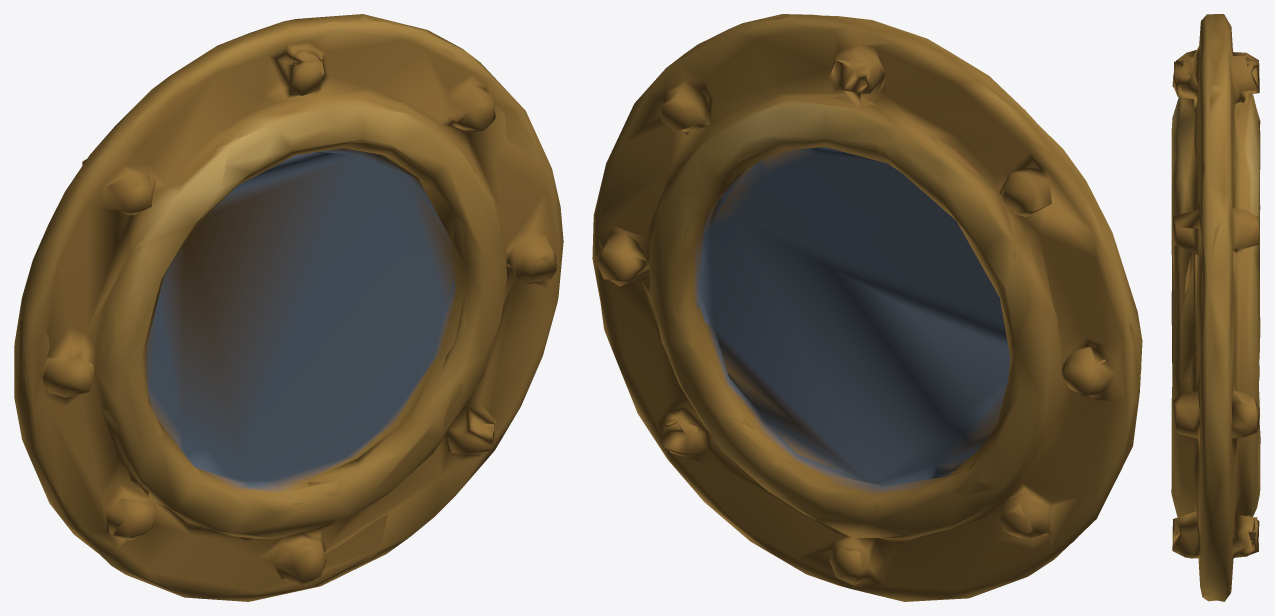
File: gen3d-porthole-lod0.glb
3 views of the same model, side by side, from view 1: azimuth 30°, elevation 25°; view 2: azimuth 150°, elevation 25°; view 3: azimuth 270°, elevation 25° (orthographic). The views are drawn at different scales.
Parts seen in each view (by area): view 1: part_0; view 2: part_0; view 3: part_0.
Part boxes in pixels (left/top/right/bottom): part_0: left=14, top=14, right=563, bottom=601; part_0: left=592, top=14, right=1142, bottom=601; part_0: left=1171, top=14, right=1260, bottom=601.
Size of the model in its own units: 0.997 by 0.9998 by 0.1515.
